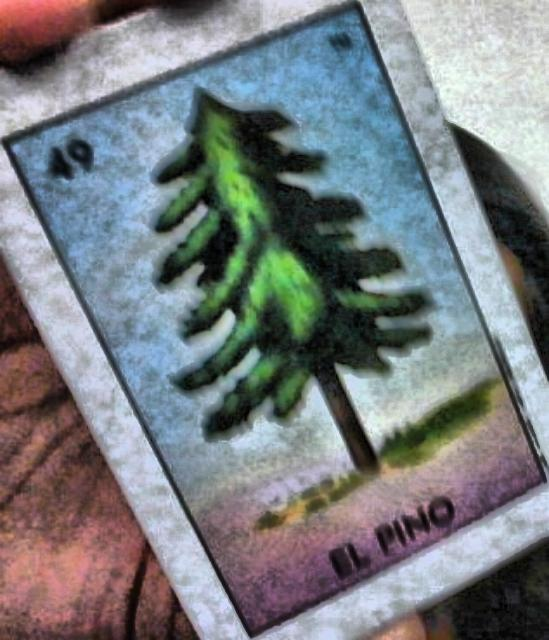El Pino: (9, 5, 548, 638)
